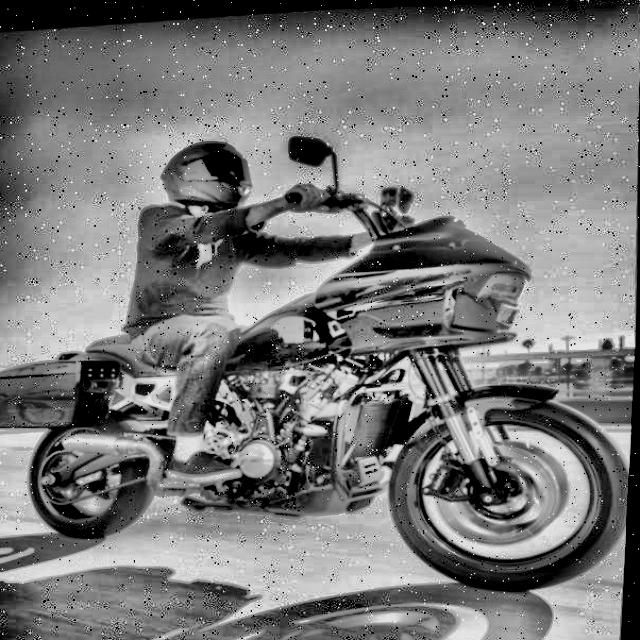Helmet: (158, 132, 262, 214)
